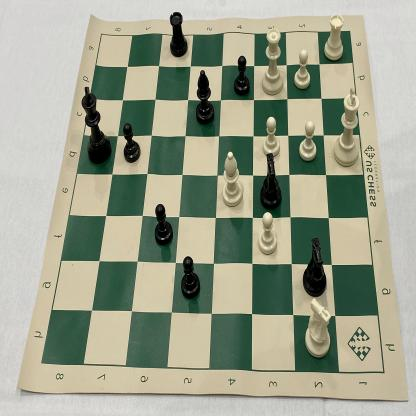bishop: (177, 249, 202, 302)
black-bishop: (190, 64, 218, 129)
black-king: (79, 79, 114, 169)
black-knight: (300, 232, 330, 299), (256, 151, 285, 214)
black-pawn: (151, 200, 175, 250), (230, 51, 254, 100), (121, 118, 144, 166)
black-rook: (320, 10, 348, 64), (167, 8, 191, 64)
white-bishop: (220, 144, 246, 210)
white-king: (330, 85, 365, 169)
white-knight: (303, 294, 335, 359)
white-pawn: (255, 208, 283, 260), (295, 115, 320, 165), (290, 47, 313, 92), (260, 112, 281, 160)
white-queen: (258, 24, 286, 99)
